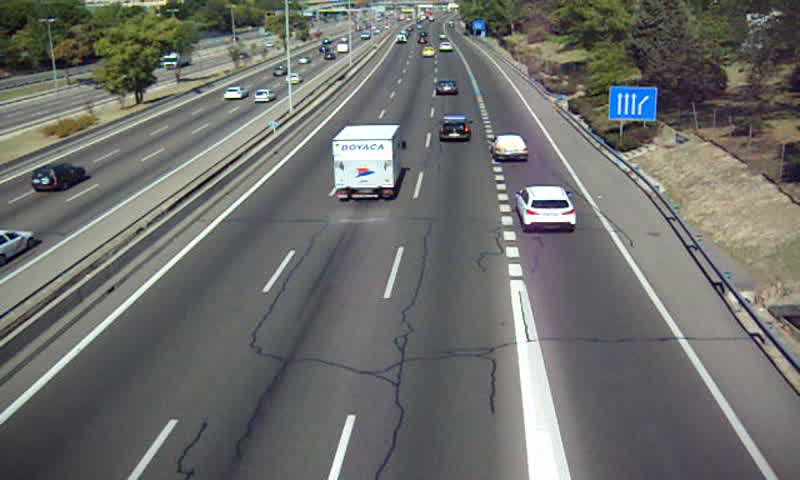car: (515, 186, 578, 233), (490, 134, 528, 161), (439, 114, 472, 141), (436, 79, 458, 96), (420, 45, 435, 57), (439, 40, 454, 51)
small-truck: (330, 124, 404, 202)
